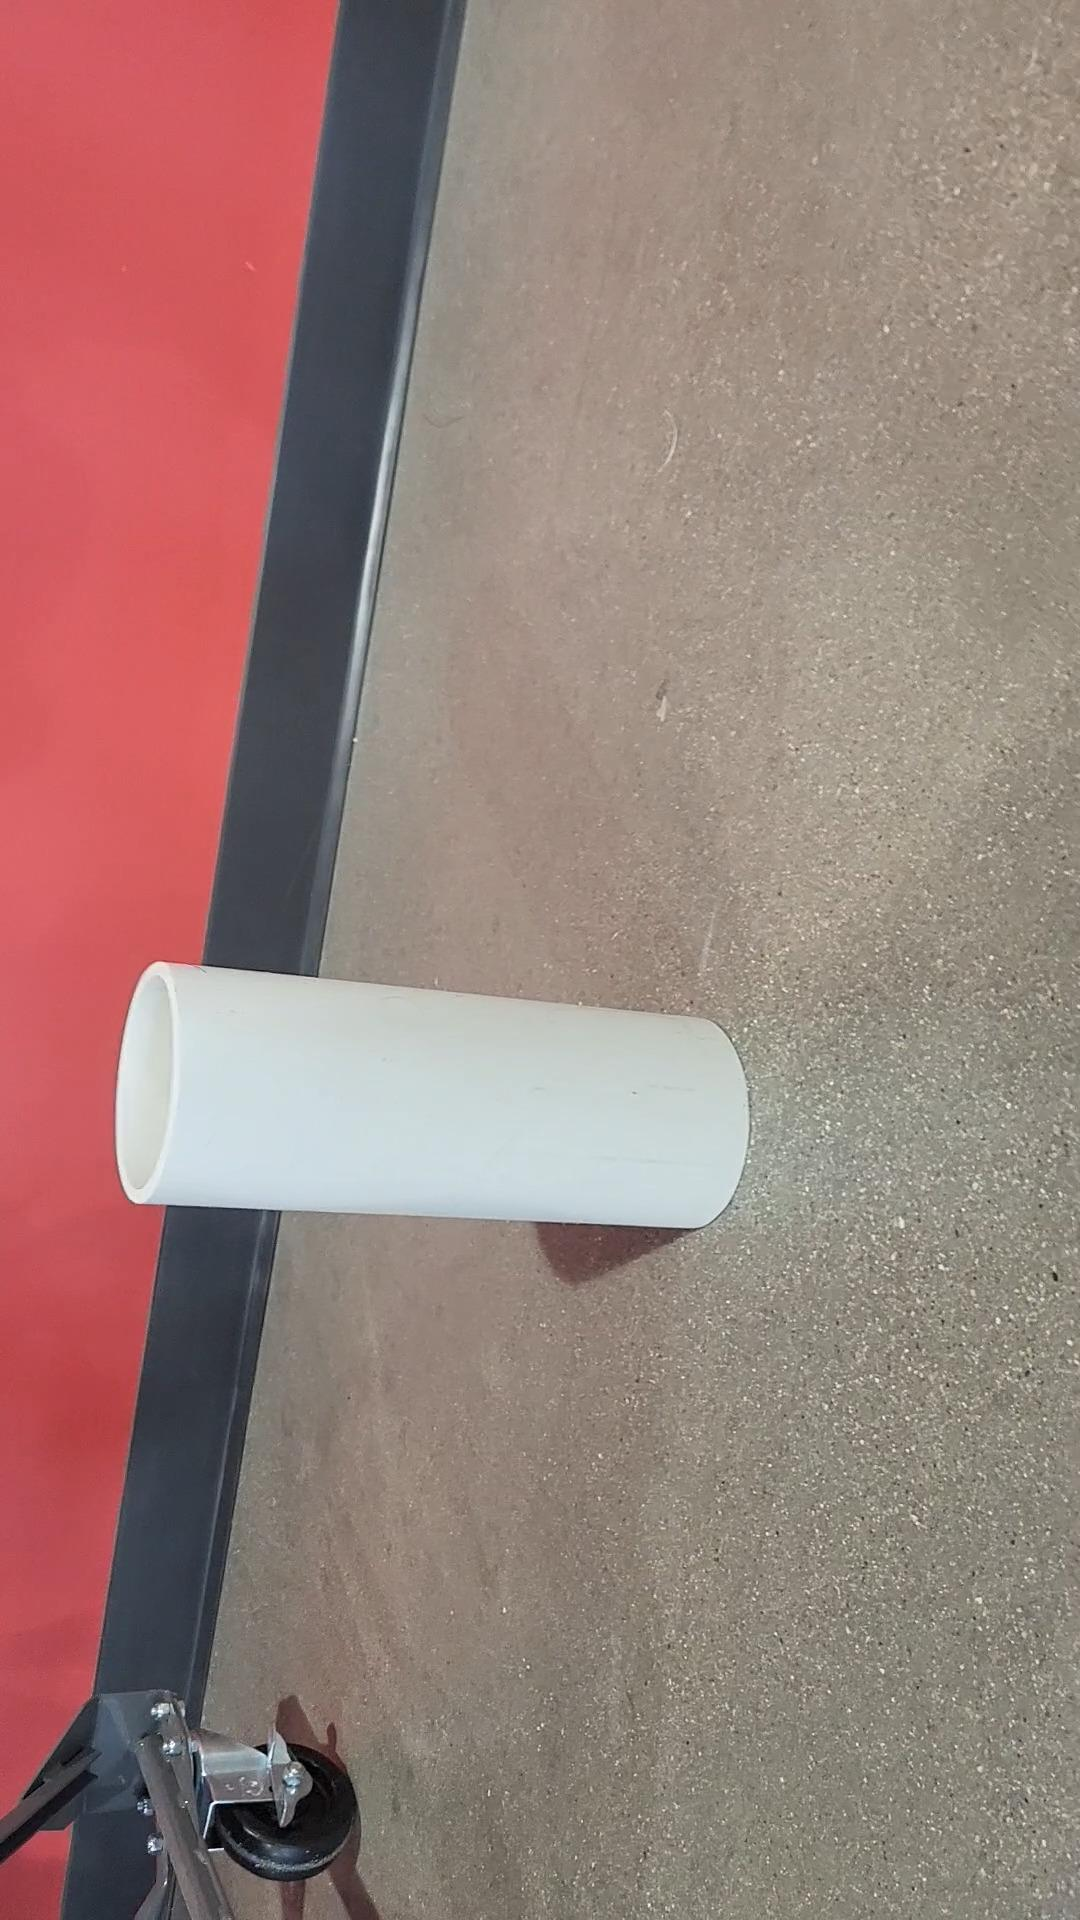coral: (115, 963, 753, 1230)
